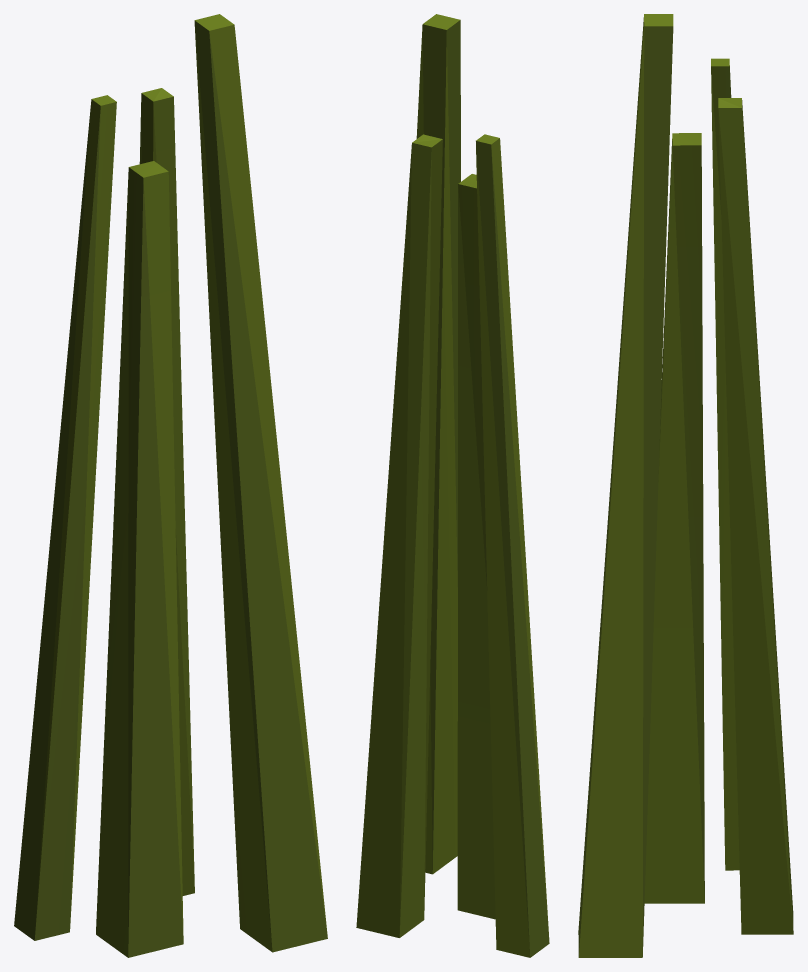
Rendered from angular_grass_d.glb.
3 renders of one model, left to right at view 1: azimuth 30°, elevation 25°; view 2: azimuth 150°, elevation 25°; view 3: azimuth 270°, elevation 25°, orthographic. The views are drawn at different scales.
Bounding box in the file's own units: 0.1523 × 0.6 × 0.1293.
